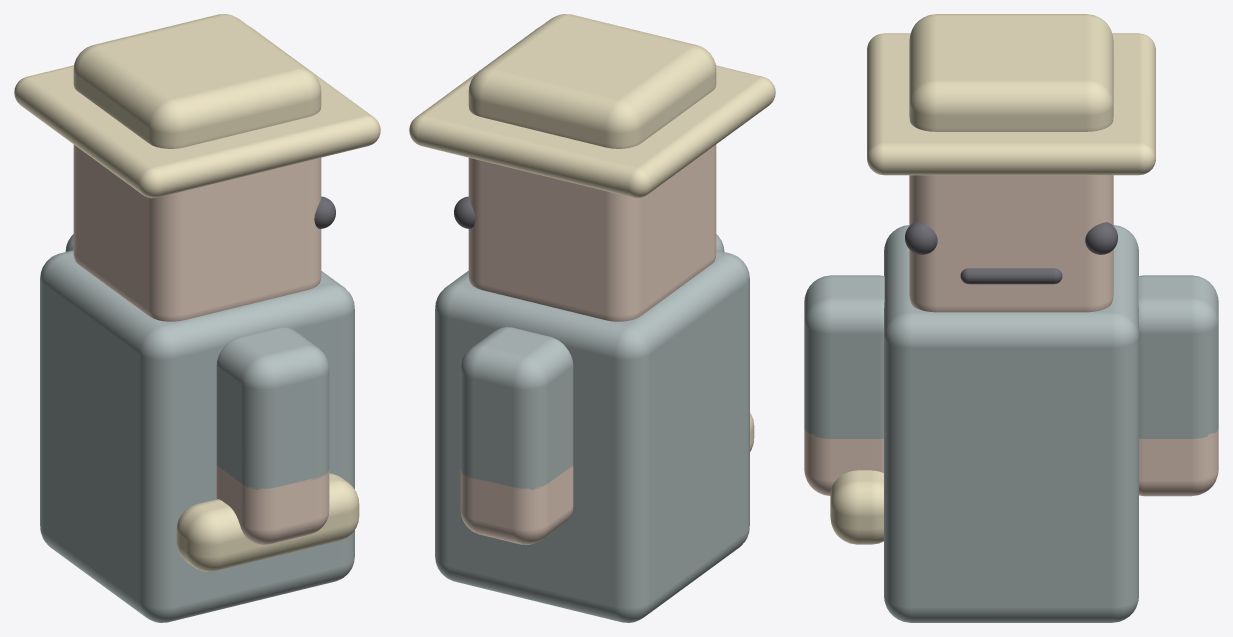
The model's file is farmer.gltf.
3 renders of one model, left to right at view 1: azimuth 30°, elevation 25°; view 2: azimuth 150°, elevation 25°; view 3: azimuth 270°, elevation 25°, orthographic. The views are drawn at different scales.
Visible parts, largest first — view 1: Body, Head, Hat_Top, Hat_Bottom, Right_Arm, Brushel, Right_Hand, Left_Eye; view 2: Body, Head, Hat_Top, Hat_Bottom, Left Arm, Left_Hand, Right_Eye; view 3: Body, Head, Hat_Top, Hat_Bottom, Right_Arm, Left Arm, Left_Hand, Brushel, Right_Hand, Mouth, Left_Eye, Right_Eye.
Boxes of the visible parts, left/top/right/bottom form: Body: left=40, top=250, right=354, bottom=622; Head: left=73, top=144, right=321, bottom=321; Hat_Top: left=73, top=14, right=321, bottom=148; Hat_Bottom: left=14, top=27, right=380, bottom=198; Right_Arm: left=216, top=327, right=329, bottom=489; Brushel: left=176, top=473, right=359, bottom=571; Right_Hand: left=216, top=465, right=329, bottom=544; Left_Eye: left=314, top=196, right=335, bottom=228; Body: left=435, top=250, right=749, bottom=622; Head: left=468, top=144, right=716, bottom=321; Hat_Top: left=468, top=14, right=716, bottom=148; Hat_Bottom: left=409, top=27, right=775, bottom=198; Left Arm: left=460, top=327, right=573, bottom=489; Left_Hand: left=460, top=465, right=573, bottom=544; Right_Eye: left=454, top=196, right=475, bottom=228; Body: left=884, top=225, right=1138, bottom=622; Head: left=909, top=175, right=1113, bottom=312; Hat_Top: left=909, top=14, right=1113, bottom=131; Hat_Bottom: left=867, top=33, right=1155, bottom=175; Right_Arm: left=804, top=275, right=884, bottom=438; Left Arm: left=1138, top=275, right=1218, bottom=438; Left_Hand: left=1139, top=429, right=1218, bottom=496; Brushel: left=830, top=470, right=883, bottom=544; Right_Hand: left=804, top=429, right=883, bottom=495; Mouth: left=960, top=268, right=1062, bottom=284; Left_Eye: left=905, top=222, right=937, bottom=254; Right_Eye: left=1085, top=222, right=1117, bottom=254.
Bounding box in the file's own units: 0.85 × 1.72 × 1.22.
